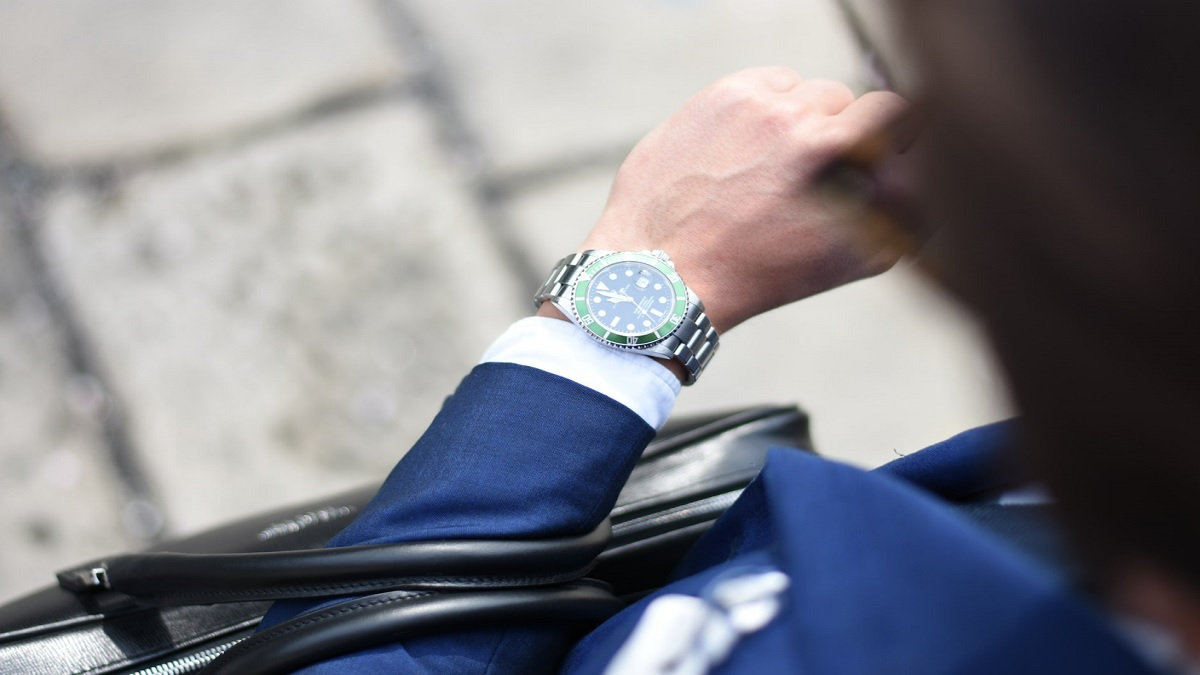Watch: (566, 250, 694, 355)
